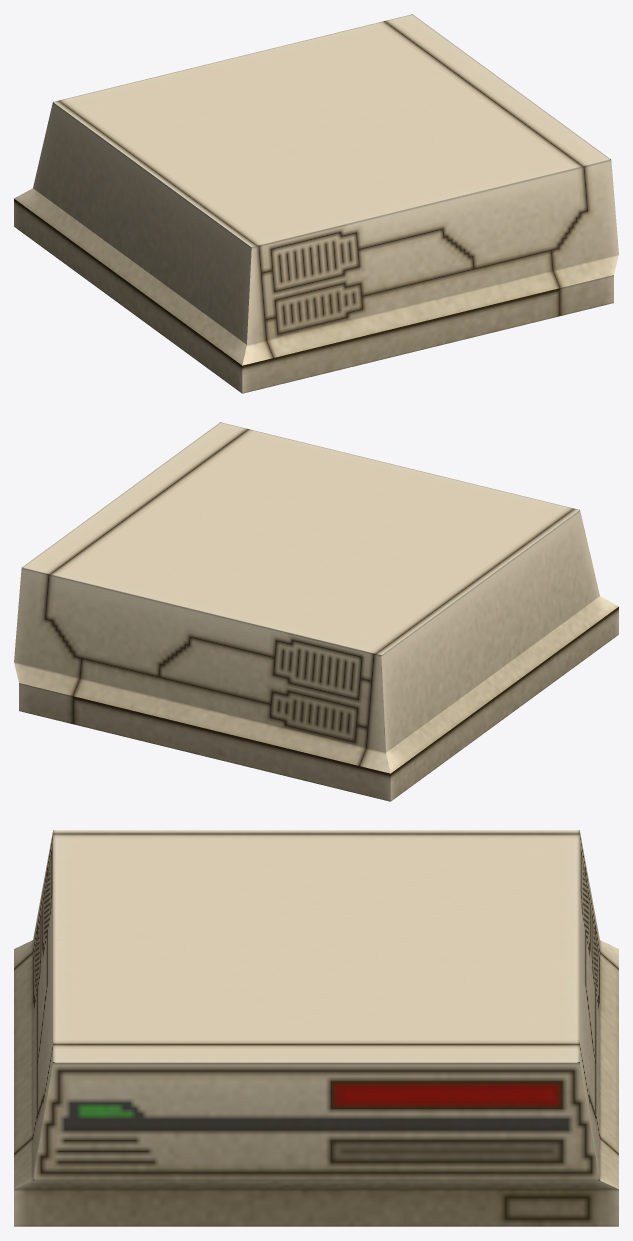
The model's file is CPU.obj.
3 renders of one model, top to bottom at view 1: azimuth 30°, elevation 25°; view 2: azimuth 150°, elevation 25°; view 3: azimuth 270°, elevation 25°, orthographic. The views are drawn at different scales.
Visible parts, largest first — view 1: CPU; view 2: CPU; view 3: CPU.
Part boxes in pixels (x1,y1,x2,y2): CPU: (14, 14, 618, 393); CPU: (14, 422, 618, 801); CPU: (14, 830, 618, 1226).
Bounding box in the file's own units: 3.1 × 1 × 3.19.
1 material, 1 textured.
